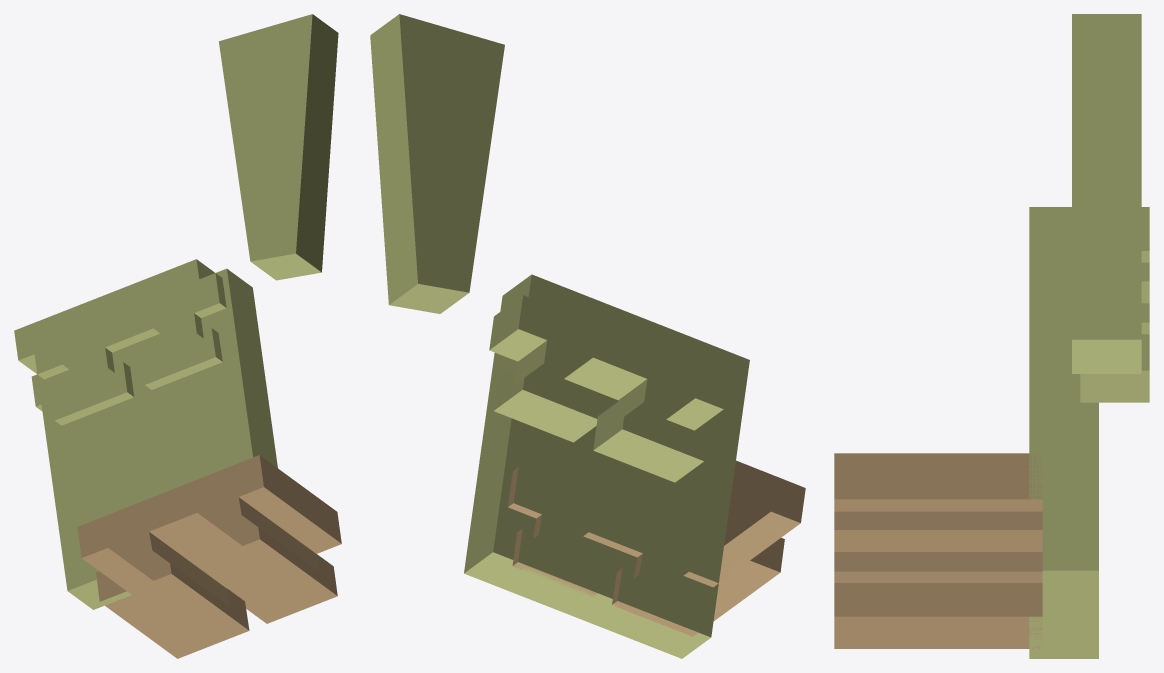
3 views of the same model, side by side, from view 1: azimuth 30°, elevation 25°; view 2: azimuth 150°, elevation 25°; view 3: azimuth 270°, elevation 25° (orthographic). The views are drawn at different scales.
Visible parts, largest first — view 1: 0_1_3_2_2_1_0_1; view 2: 0_1_3_2_2_1_0_1; view 3: 0_1_3_2_2_1_0_1.
Part boxes in pixels (left/top/right/bottom): 0_1_3_2_2_1_0_1: left=14, top=14, right=341, bottom=658; 0_1_3_2_2_1_0_1: left=370, top=14, right=805, bottom=658; 0_1_3_2_2_1_0_1: left=834, top=14, right=1149, bottom=658.
Bounding box in the file's own units: 59.12 × 95.97 × 40.85.
